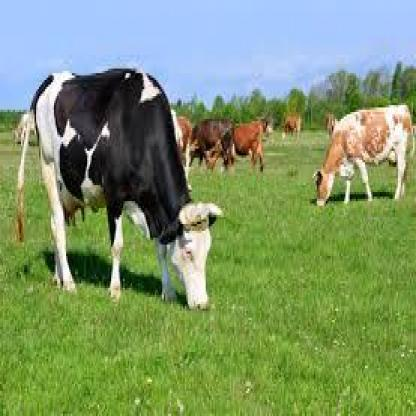cow: (29, 67, 211, 312), (314, 102, 411, 207), (224, 122, 263, 175), (283, 115, 301, 140)
